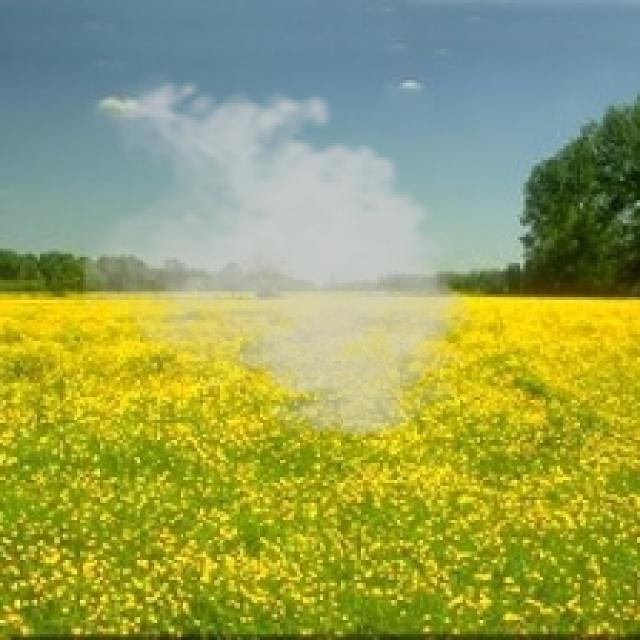Smoke: (80, 68, 486, 446)
